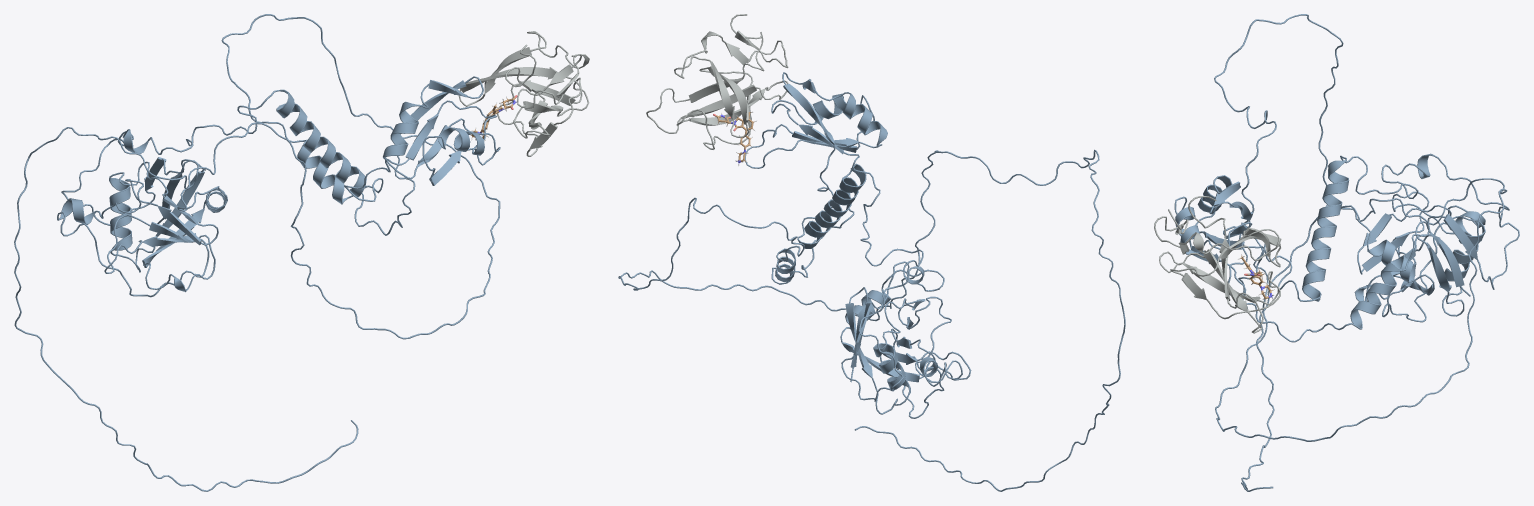
3 views of the same model, side by side, from view 1: azimuth 30°, elevation 25°; view 2: azimuth 150°, elevation 25°; view 3: azimuth 270°, elevation 25° (orthographic). The views are drawn at different scales.
Parts seen in each view (by area): view 1: node-geom102, node-geom103; view 2: node-geom102, node-geom103; view 3: node-geom102, node-geom103.
Boxes of the visible parts, x1,y1,x2,y2 form: node-geom102: (57, 31, 589, 297); node-geom103: (14, 14, 500, 491); node-geom102: (646, 14, 971, 418); node-geom103: (618, 72, 1125, 491); node-geom102: (1154, 153, 1519, 333); node-geom103: (1174, 14, 1507, 491).
Bounding box in the file's own units: 144 × 101 × 84.98.
